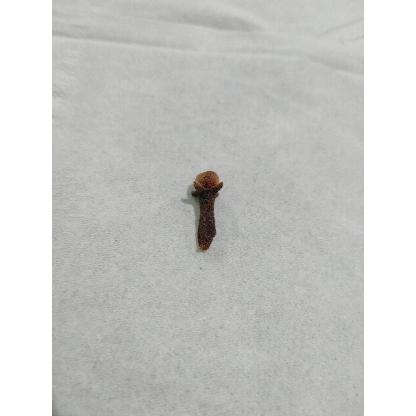baik: (183, 172, 223, 253)
